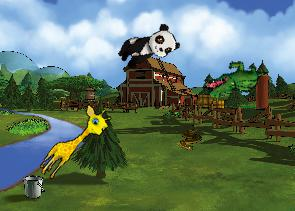crocodile: (200, 47, 269, 113)
giraffe: (35, 99, 115, 188)
panda: (114, 20, 181, 75)
